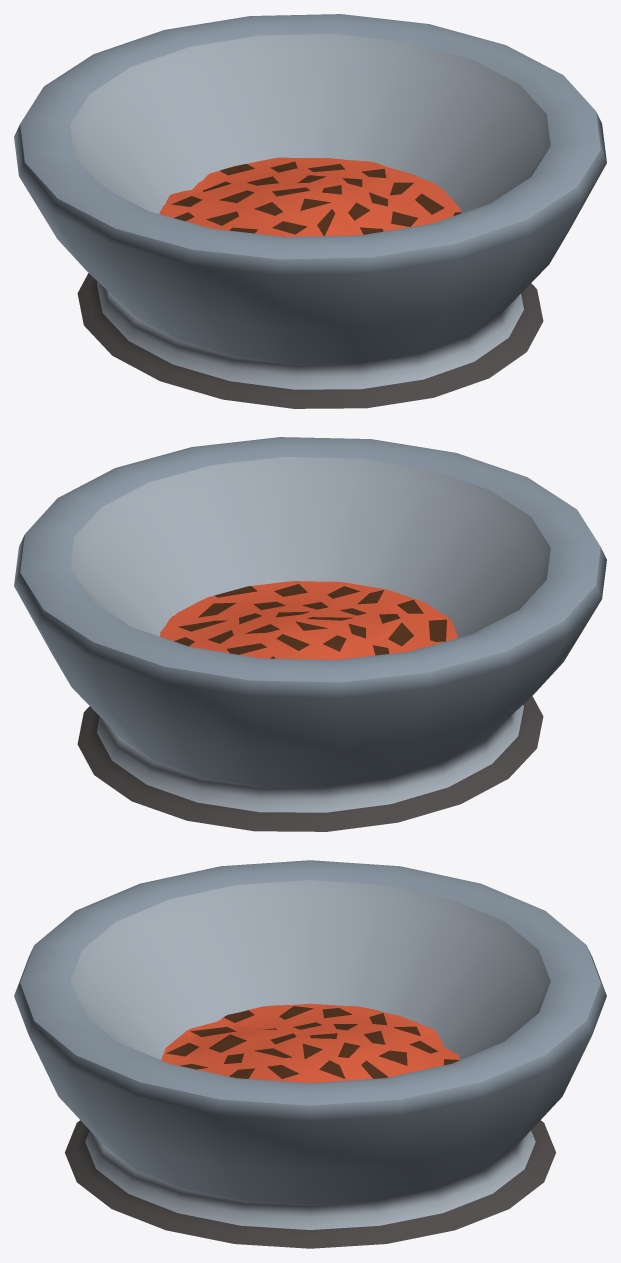
Rendered from dog_food_bowl_5.fbx.
3 views of the same model, one above another, from view 1: azimuth 30°, elevation 25°; view 2: azimuth 150°, elevation 25°; view 3: azimuth 270°, elevation 25° (orthographic).
Parts seen in each view (by area): view 1: pDisc12; view 2: pDisc12; view 3: pDisc12.
Boxes of the visible parts, box(x1,y1,x2,y2) form: pDisc12: box(14, 14, 606, 408); pDisc12: box(14, 437, 606, 831); pDisc12: box(14, 860, 606, 1248).
Size of the model in its own units: 60.67 by 22.79 by 60.67.
1 material, 1 textured.
